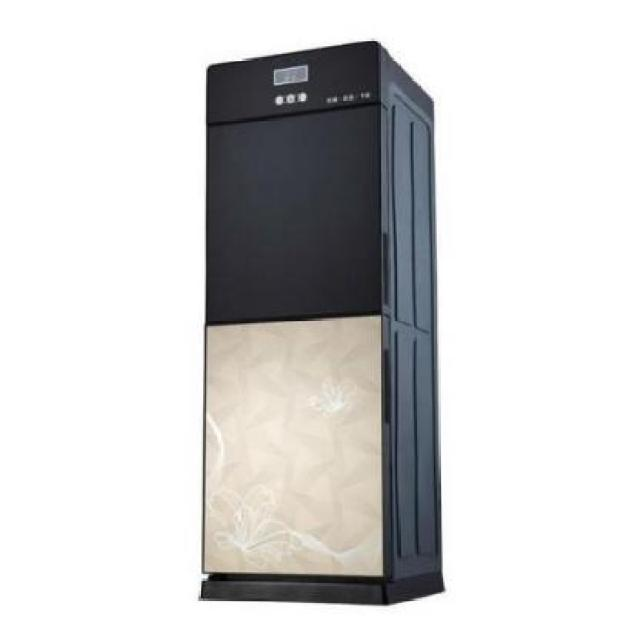cooler: (195, 37, 441, 615)
